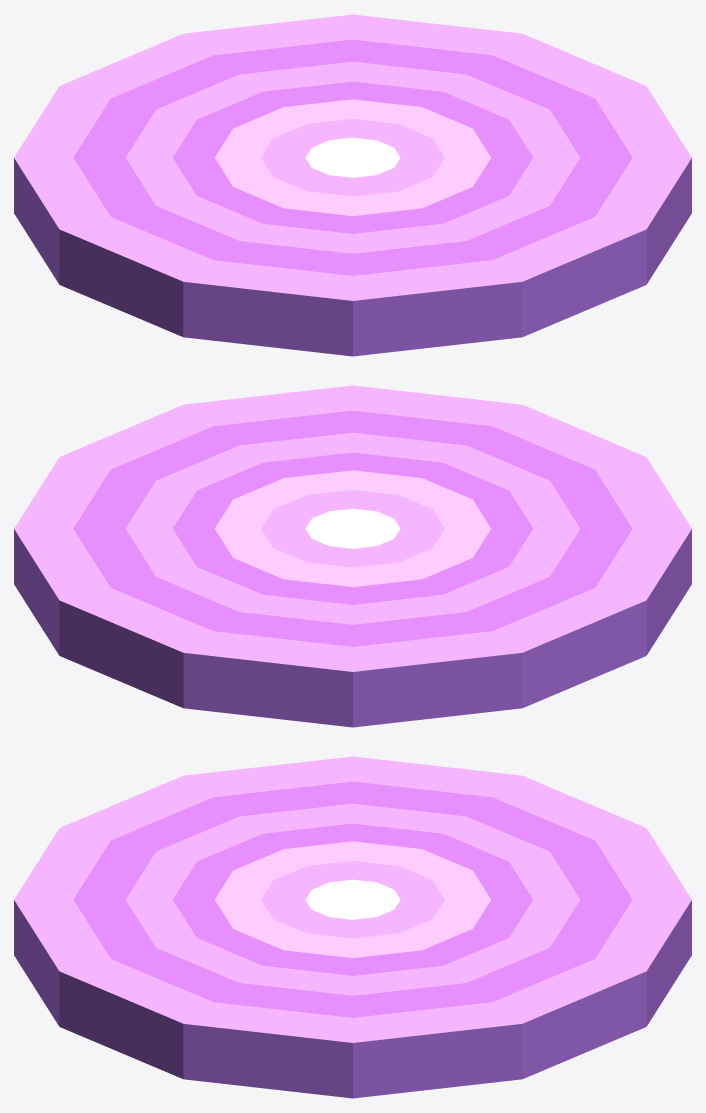
Rendered from onion.fbx.
3 renders of one model, top to bottom at view 1: azimuth 30°, elevation 25°; view 2: azimuth 150°, elevation 25°; view 3: azimuth 270°, elevation 25°, orthographic.
Parts seen in each view (by area): view 1: nion; view 2: nion; view 3: nion.
Boxes of the visible parts, <box> form: nion: <box>14,14,691,356</box>; nion: <box>14,385,691,727</box>; nion: <box>14,756,691,1098</box>.
Size of the model in its own units: 198 by 17.89 by 198.
